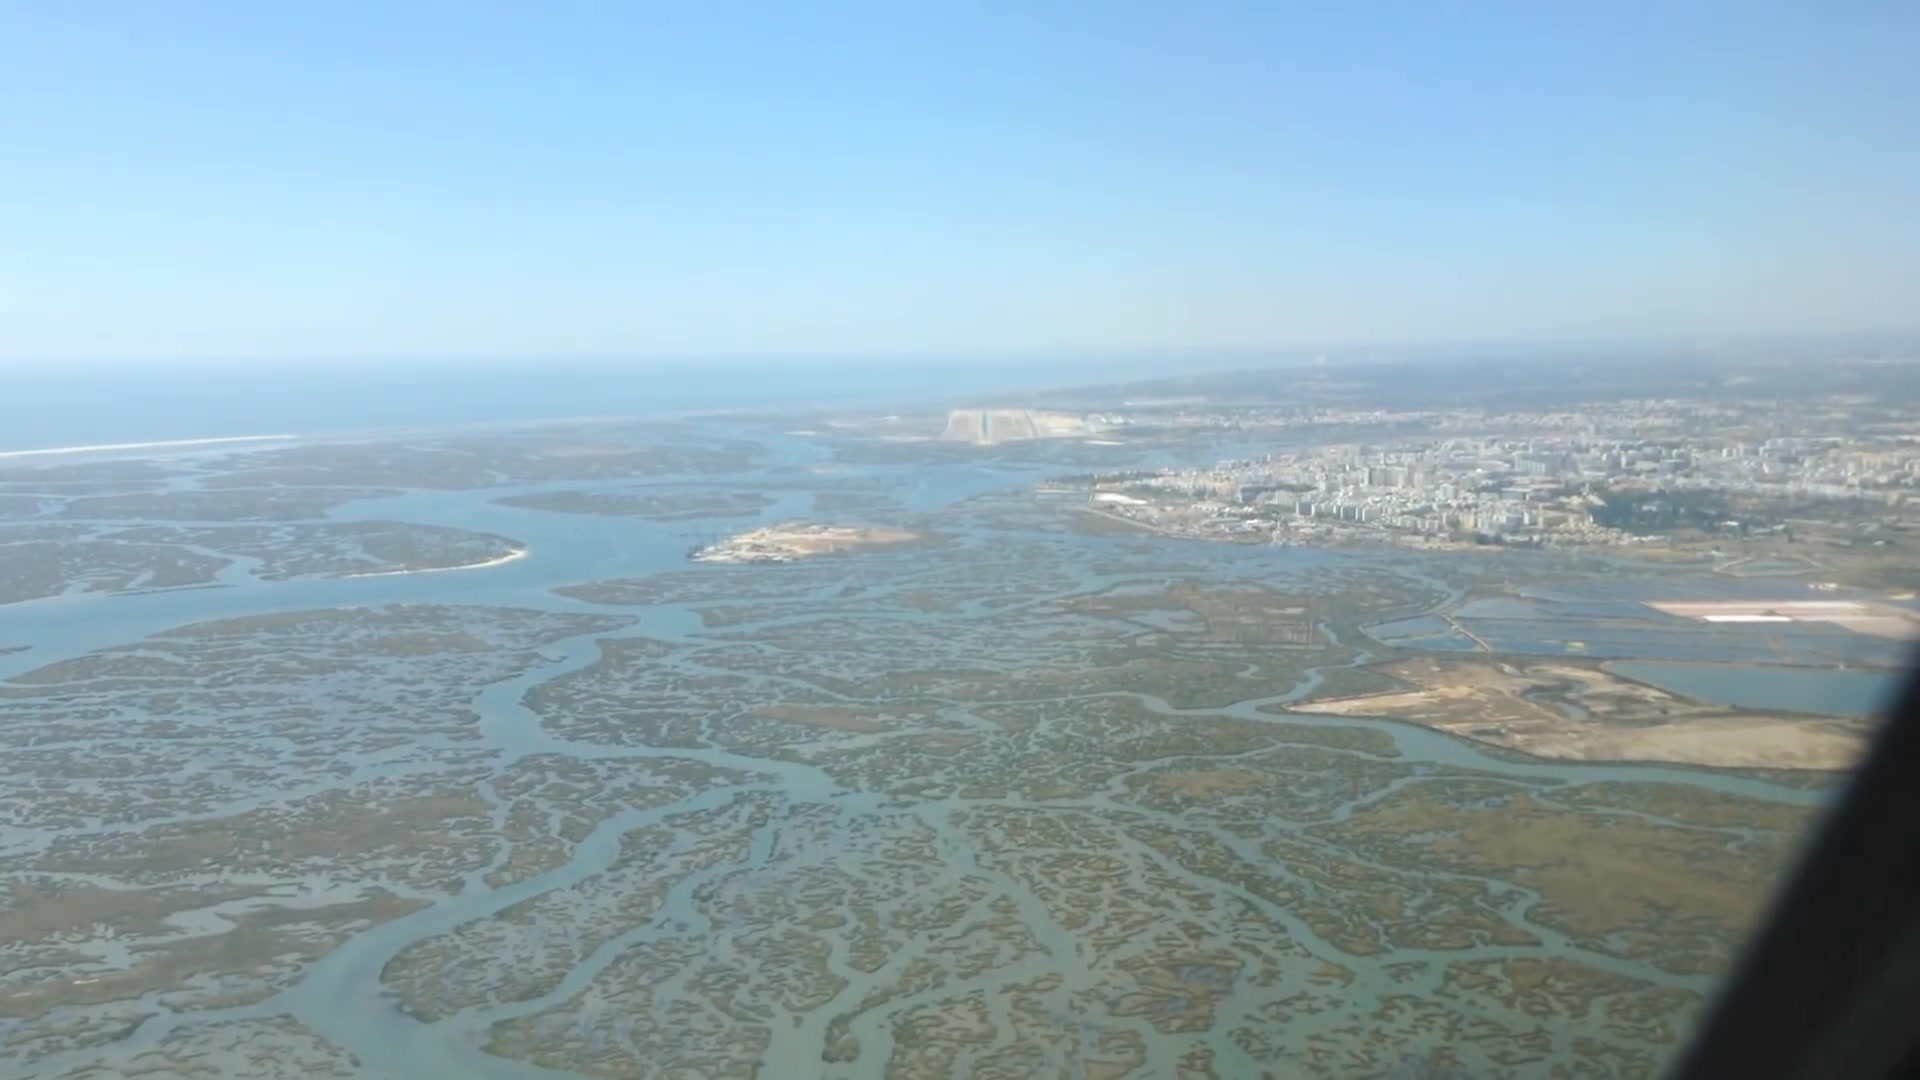runway: (975, 407, 993, 448), (1021, 409, 1042, 438)
